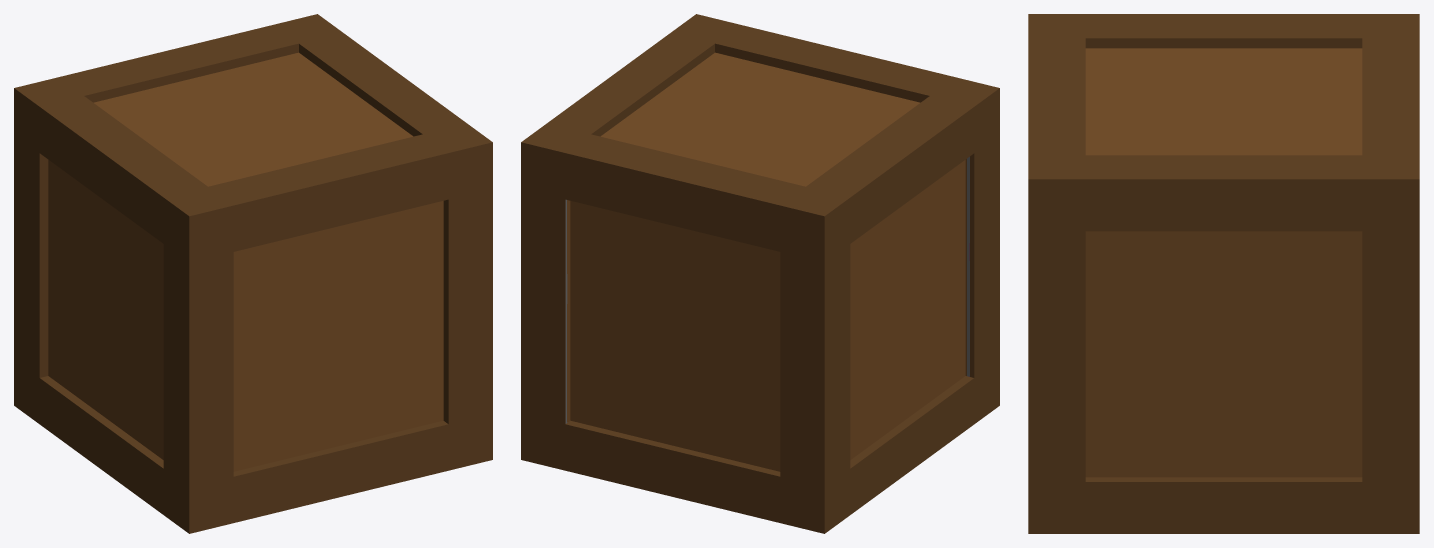
3 views of the same model, side by side, from view 1: azimuth 30°, elevation 25°; view 2: azimuth 150°, elevation 25°; view 3: azimuth 270°, elevation 25° (orthographic). The views are drawn at different scales.
Visible parts, largest first — view 1: Box; view 2: Box; view 3: Box.
Part boxes in pixels (x1,y1,x2,y2): Box: (14, 14, 492, 533); Box: (521, 14, 999, 533); Box: (1028, 14, 1419, 533).
Size of the model in its own units: 16.45 by 16.45 by 16.45.
Materials: 1 (1 with a texture image).
